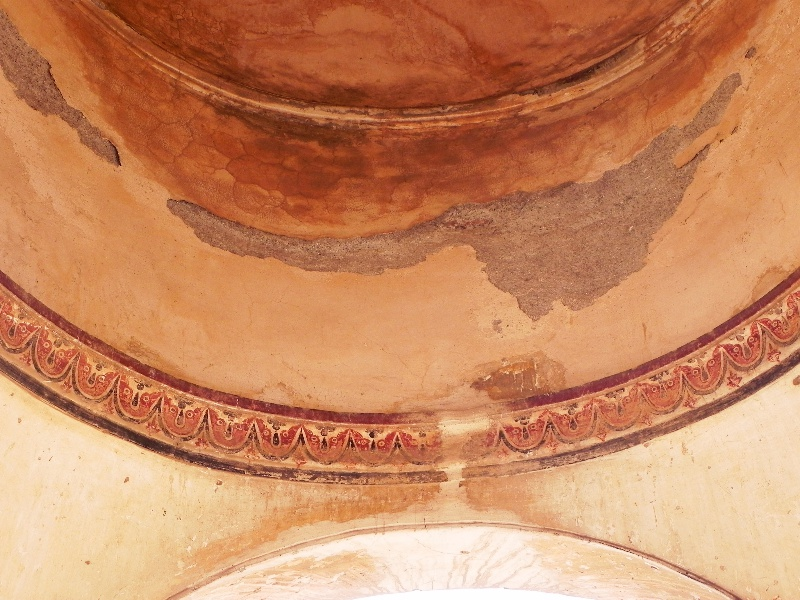Spalling: (469, 68, 745, 325), (167, 197, 467, 279), (1, 11, 129, 179)
